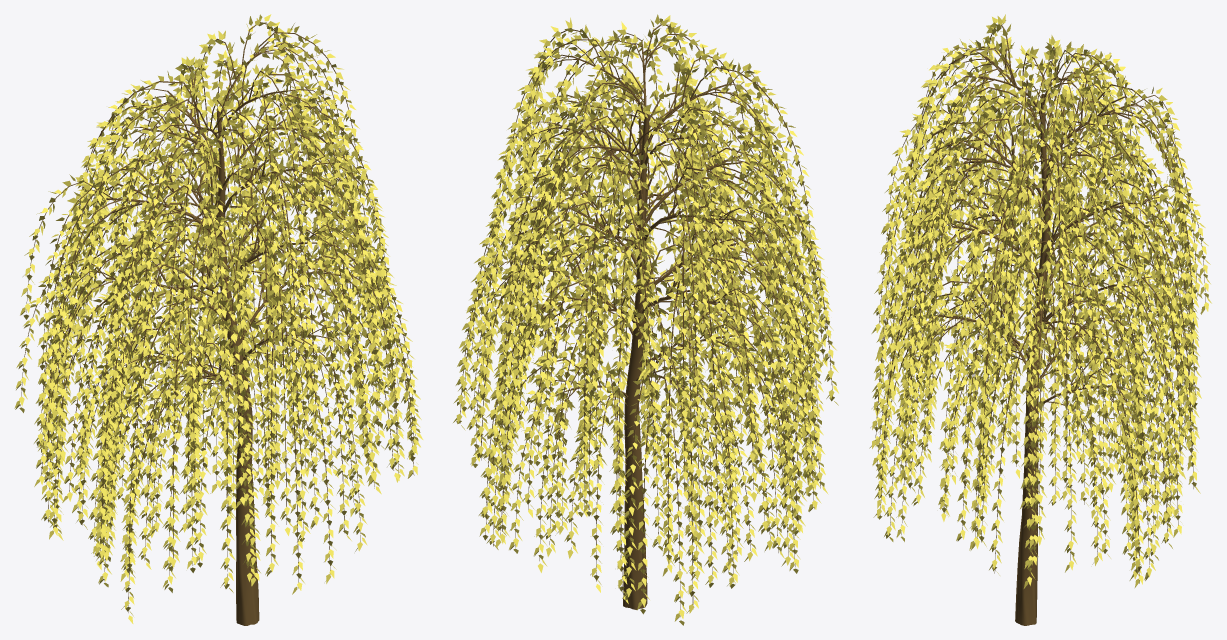
File: Busch3 Neu.FBX
The picture shows the model from 3 angles, left to right: view 1: azimuth 30°, elevation 25°; view 2: azimuth 150°, elevation 25°; view 3: azimuth 270°, elevation 25°; orthographic projection.
Visible parts, largest first — view 1: Foliage011; view 2: Foliage011; view 3: Foliage011.
Boxes of the visible parts, bbox=[...] form: Foliage011: bbox=[14, 14, 423, 625]; Foliage011: bbox=[453, 14, 838, 625]; Foliage011: bbox=[869, 14, 1211, 625].
Size of the model in its own units: 129 by 191 by 101.
